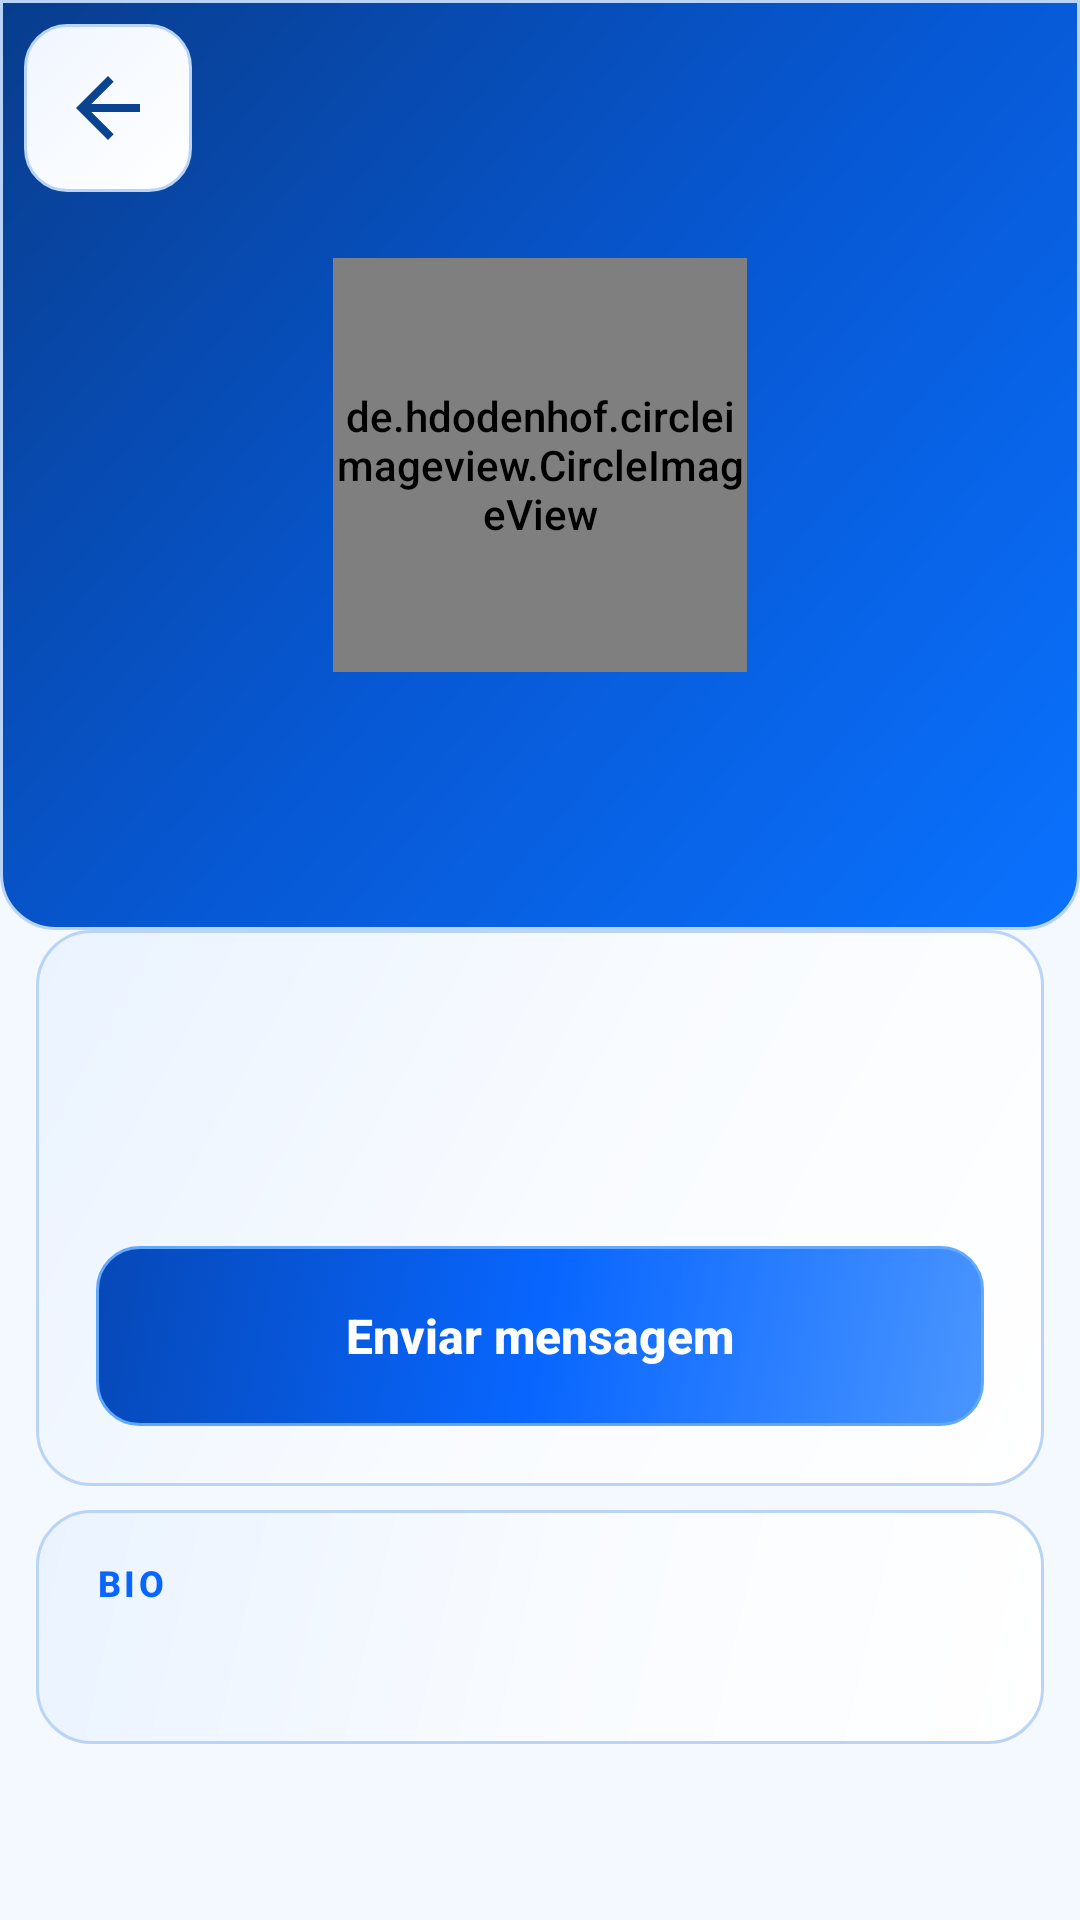

Point at icon controls on the screen. Image size 1080w x 1920h, points as [x,y].
zen back: [108,108]
